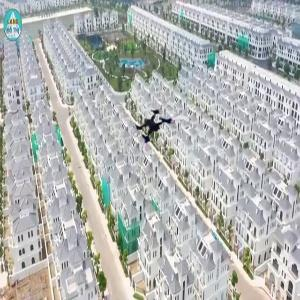drone: (129, 102, 186, 159)
